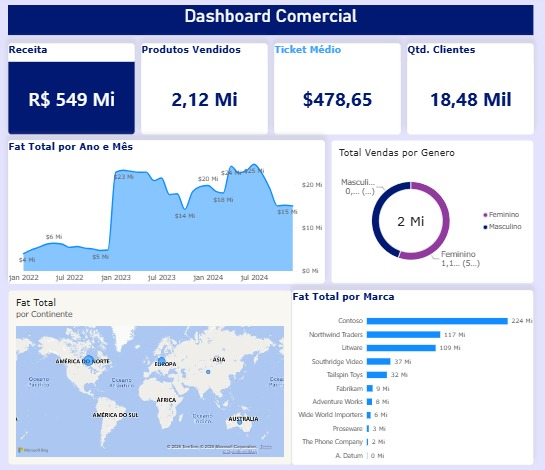

The page's visual inventory and layout, read from the dashboard file:
{"tool":"powerbi","page":{"name":"Página 1","canvas":[1920,1080],"ordinal":0},"visuals":[{"type":"textbox","box":[38.6,18.6,1117.1,64.3],"z":0},{"type":"cardVisual","title":"Receita","fields":{"Data":["Sum(Base Vendas.Fat na Venda)"]},"box":[38.3,100,270,195],"z":1000},{"type":"cardVisual","title":"Produtos Vendidos","fields":{"Data":["Sum(Base Vendas.Qtd. Vendida)"]},"box":[320,100,270,195],"z":2000},{"type":"cardVisual","title":"Ticket Médio","fields":{"Data":["Base Vendas.Ticket Médio"]},"box":[604.3,100,270,195],"z":3000},{"type":"cardVisual","title":"Qtd. Clientes","fields":{"Data":["Base Vendas.Qtd Clientes"]},"box":[885.7,100,270,195],"z":4000},{"type":"areaChart","fields":{"Category":["Base Vendas.Data Venda.Variation.Hierarquia de datas.Ano","Base Vendas.Data Venda.Variation.Hierarquia de datas.Mês"],"Y2":["Base Vendas.Fat Total"]},"box":[38.6,305.7,674.3,305.7],"z":5000},{"type":"donutChart","fields":{"Category":["Cadastro Clientes.Genero"],"Y":["Base Vendas.Total Vendas"]},"box":[724.3,305.7,431.4,305.7],"z":6000},{"type":"barChart","fields":{"Category":["Produto.Marca"],"Y":["Base Vendas.Fat Total"]},"box":[641.7,625,513.3,371.7],"z":8000},{"type":"map","fields":{"Category":["Cadastro Lojas.Continente"],"Size":["Base Vendas.Fat Total"]},"box":[39,625,603,372],"z":8001}]}

Visuals, with their boxes on the page's 1920x1080 design canvas (x1, y1, x2, y2). These are canvas units, not pixel positions in the 545x470 screenshot, which may show the page scaled, cropped or inside an application window:
textbox: (x1=39, y1=19, x2=1156, y2=83)
"Receita" cardVisual: (x1=38, y1=100, x2=308, y2=295)
"Produtos Vendidos" cardVisual: (x1=320, y1=100, x2=590, y2=295)
"Ticket Médio" cardVisual: (x1=604, y1=100, x2=874, y2=295)
"Qtd. Clientes" cardVisual: (x1=886, y1=100, x2=1156, y2=295)
areaChart - Base Vendas.Data Venda.Variation.Hierarquia de datas.Ano x Base Vendas.Data Venda.Variation.Hierarquia de datas.Mês: (x1=39, y1=306, x2=713, y2=611)
donutChart - Cadastro Clientes.Genero x Base Vendas.Total Vendas: (x1=724, y1=306, x2=1156, y2=611)
barChart - Produto.Marca x Base Vendas.Fat Total: (x1=642, y1=625, x2=1155, y2=997)
map - Cadastro Lojas.Continente x Base Vendas.Fat Total: (x1=39, y1=625, x2=642, y2=997)
